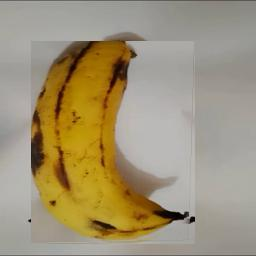Banana Semifresh: (32, 42, 196, 245)
